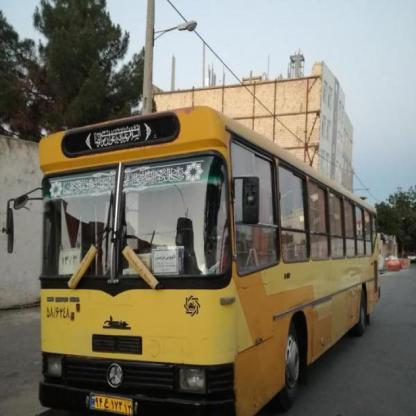Bus: (19, 116, 388, 416)
